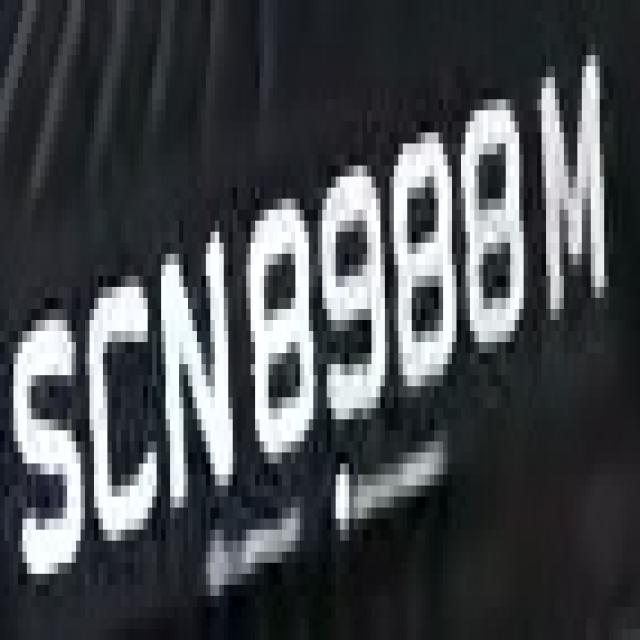8: (228, 176, 318, 496), (380, 110, 466, 430), (438, 55, 524, 364)
9: (309, 154, 394, 452)
C: (76, 265, 161, 574)
M: (532, 44, 626, 353)
N: (148, 187, 242, 518)
S: (9, 287, 85, 596)
